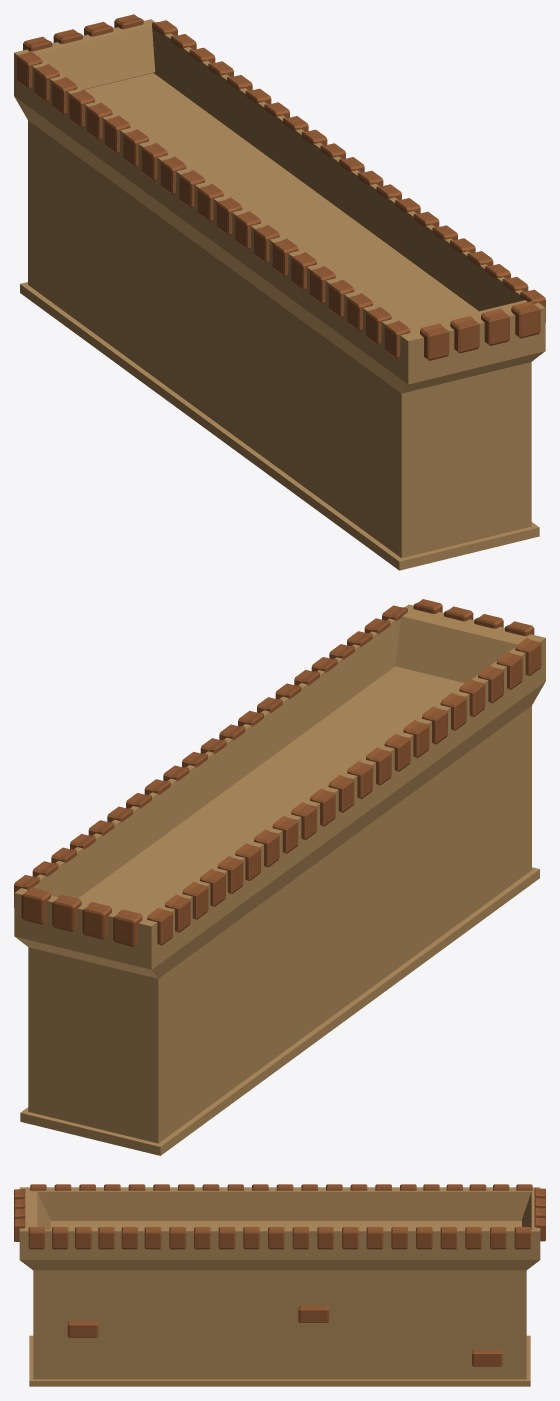
File: WallExtenstion.fbx
The picture shows the model from 3 angles, top to bottom: view 1: azimuth 30°, elevation 25°; view 2: azimuth 150°, elevation 25°; view 3: azimuth 270°, elevation 25°; orthographic projection. The views are drawn at different scales.
Parts seen in each view (by area): view 1: Cube; view 2: Cube; view 3: Cube.
Boxes of the visible parts, <box> form: Cube: <box>14,14,545,570</box>; Cube: <box>14,599,545,1155</box>; Cube: <box>14,1184,545,1386</box>.
Bounding box in the file's own units: 1472 × 2267 × 6875.
